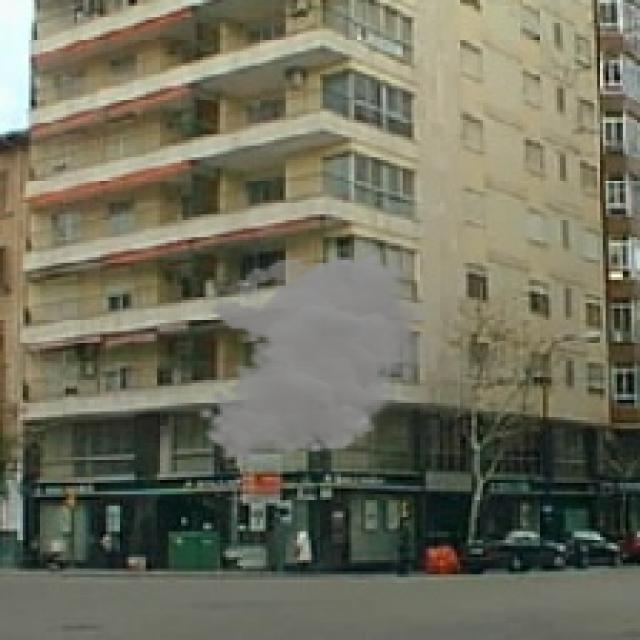smoke: (197, 251, 440, 463)
